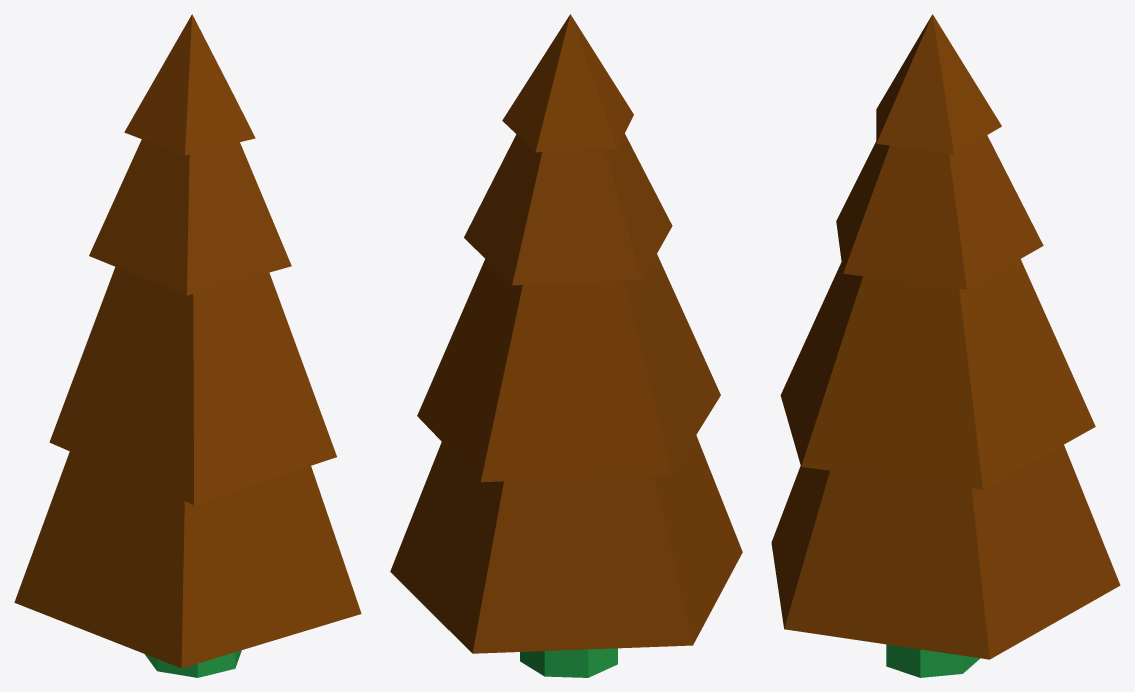
File: PineTree (2).fbx
The picture shows the model from 3 angles, left to right: view 1: azimuth 30°, elevation 25°; view 2: azimuth 150°, elevation 25°; view 3: azimuth 270°, elevation 25°; orthographic projection.
Visible parts, largest first — view 1: PineTree__2_; view 2: PineTree__2_; view 3: PineTree__2_.
Boxes of the visible parts, x1,y1,x2,y2 form: PineTree__2_: [14, 14, 361, 677]; PineTree__2_: [390, 14, 742, 677]; PineTree__2_: [771, 14, 1120, 677].
Size of the model in its own units: 297 by 605 by 298.
